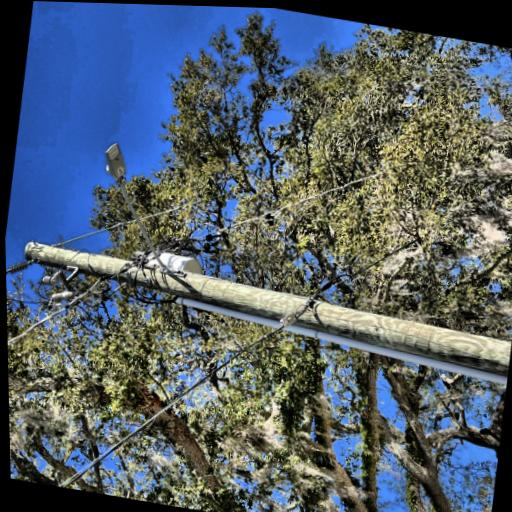pole: (2, 102, 116, 488)
street light: (72, 197, 200, 322)
transformer: (63, 245, 104, 323)
vegetation_encroachment: (2, 105, 183, 489)
